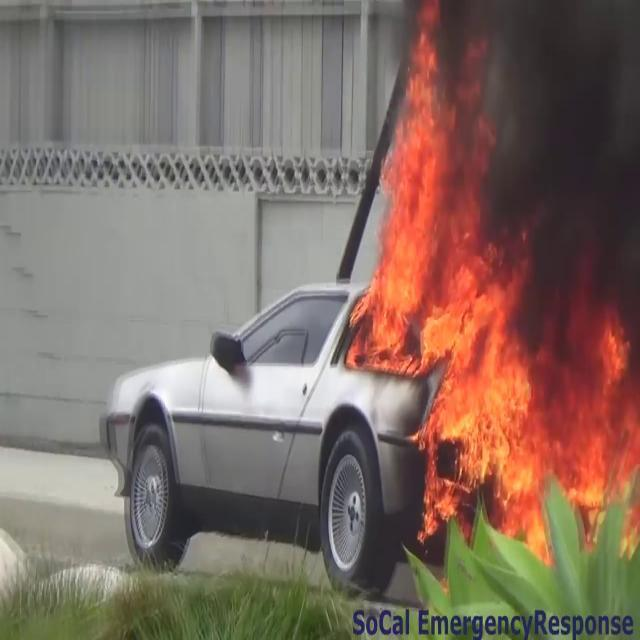Fire: (351, 36, 640, 555)
Smoke: (492, 0, 640, 401)
